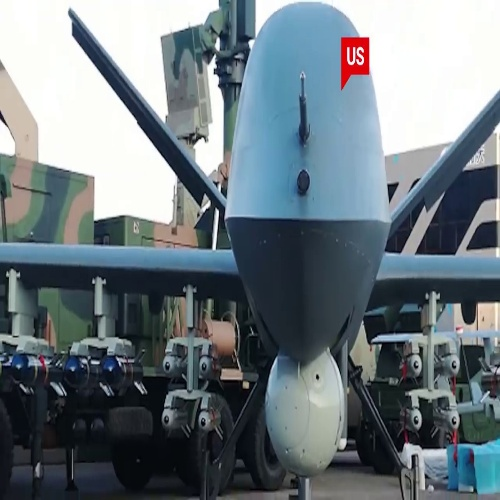uav160: (4, 3, 499, 478)
